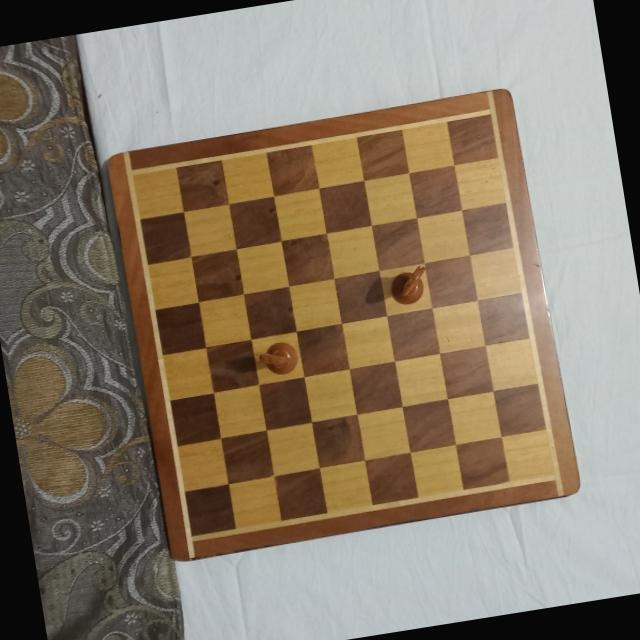white-knight: (386, 261, 432, 308), (257, 339, 299, 380)
